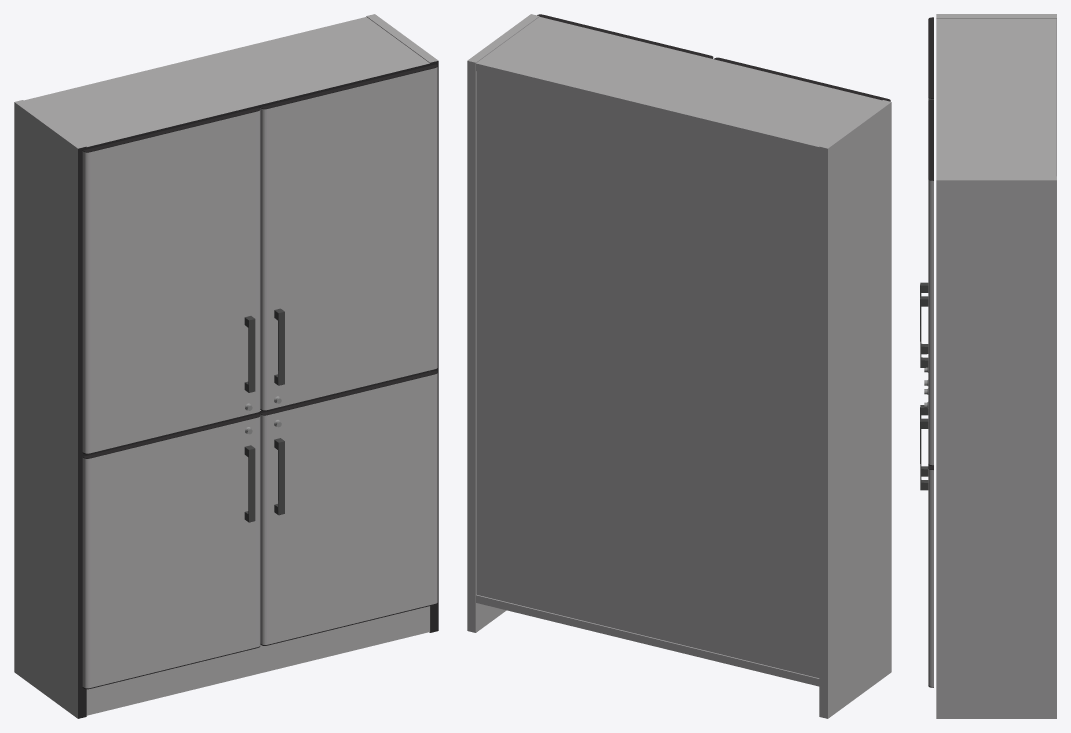
Rendered from Laboratory closet 2.FBX.
The picture shows the model from 3 angles, left to right: view 1: azimuth 30°, elevation 25°; view 2: azimuth 150°, elevation 25°; view 3: azimuth 270°, elevation 25°; orthographic projection. The views are drawn at different scales.
Parts seen in each view (by area): view 1: laboratory closet 2; view 2: laboratory closet 2; view 3: laboratory closet 2.
Part boxes in pixels (left/top/right/bottom): laboratory closet 2: left=14, top=14, right=438, bottom=718; laboratory closet 2: left=467, top=14, right=891, bottom=718; laboratory closet 2: left=920, top=14, right=1056, bottom=718.
Bounding box in the file's own units: 1415 × 492 × 2138.
